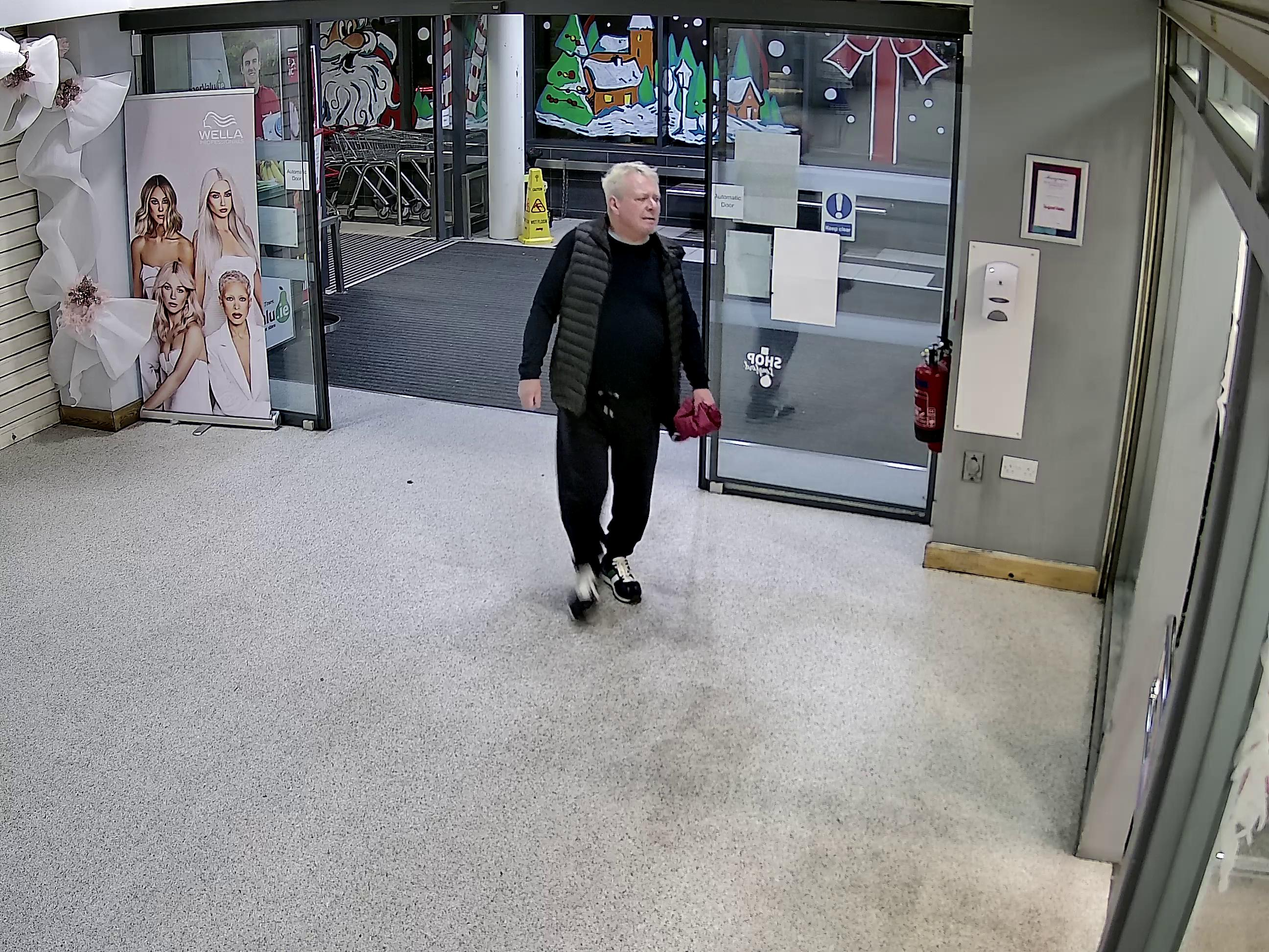empty-shopping-bags: (670, 391, 725, 443)
person: (519, 162, 708, 618)
person-with-empty-shopping-bag-s-: (519, 160, 723, 615)
